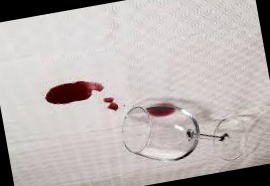wine: (35, 70, 120, 118), (102, 96, 120, 118)
